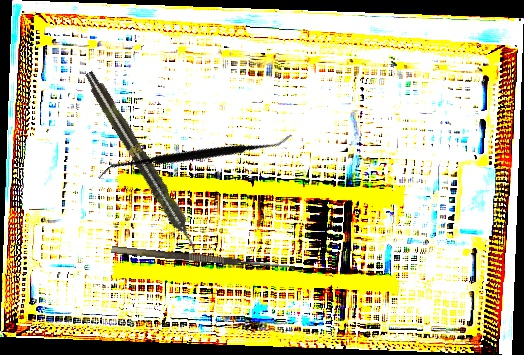Handpiece: (80, 68, 204, 256)
Hook Surgical: (111, 235, 296, 273)
Spatula Surgical: (97, 62, 293, 251)
